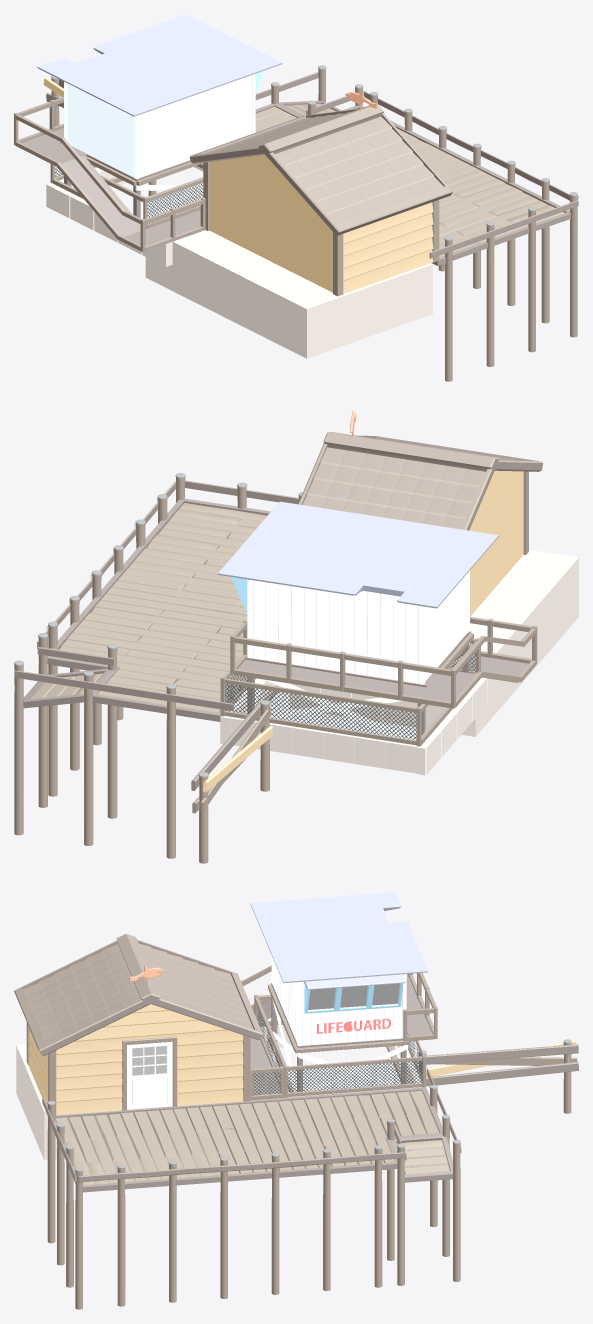
Rendered from JettyBuildings.fbx.
3 views of the same model, one above another, from view 1: azimuth 30°, elevation 25°; view 2: azimuth 150°, elevation 25°; view 3: azimuth 270°, elevation 25° (orthographic). The views are drawn at different scales.
Visible parts, largest first — view 1: lifeguardTower1, Shack1, groundBlocks1, jetty; view 2: lifeguardTower1, jetty, groundBlocks1, Shack1; view 3: jetty, Shack1, lifeguardTower1, groundBlocks1.
Boxes of the visible parts, <box> form: lifeguardTower1: <box>14,14,282,251</box>; Shack1: <box>189,104,452,296</box>; groundBlocks1: <box>43,75,432,358</box>; jetty: <box>255,65,578,381</box>; lifeguardTower1: <box>218,501,537,746</box>; jetty: <box>14,473,302,858</box>; groundBlocks1: <box>191,550,578,863</box>; Shack1: <box>298,432,543,616</box>; jetty: <box>42,1068,461,1309</box>; Shack1: <box>14,933,262,1115</box>; lifeguardTower1: <box>241,892,437,1100</box>; groundBlocks1: <box>16,1025,578,1160</box>.
Bounding box in the file's own units: 17.24 × 10.91 × 21.65.
